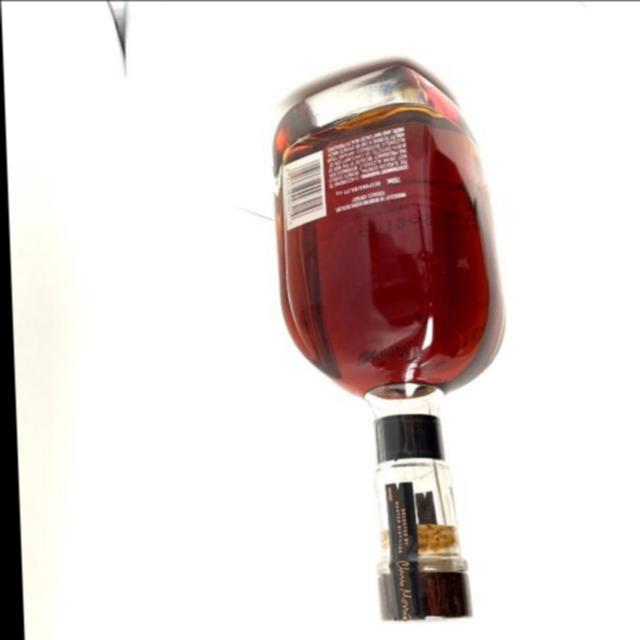WOODFORD RESERVE BATCH PROOF 124.7 750ML: (264, 53, 519, 626)
